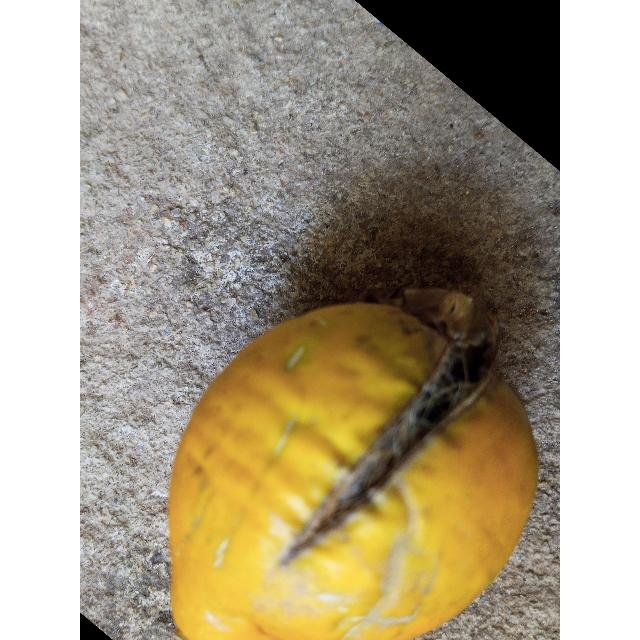damaged: (167, 292, 539, 640)
